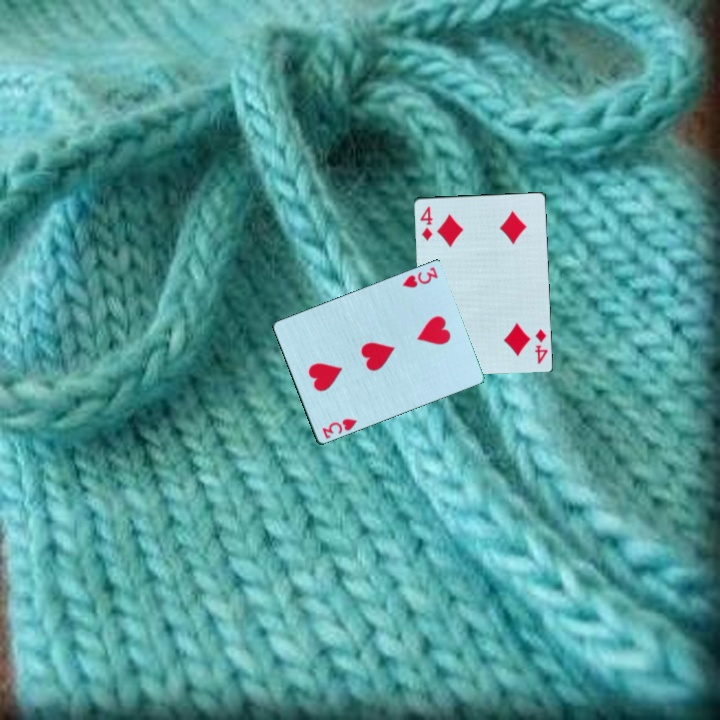3h: (318, 415, 360, 442), (399, 264, 441, 291)
4d: (416, 203, 435, 244), (531, 326, 550, 366)
